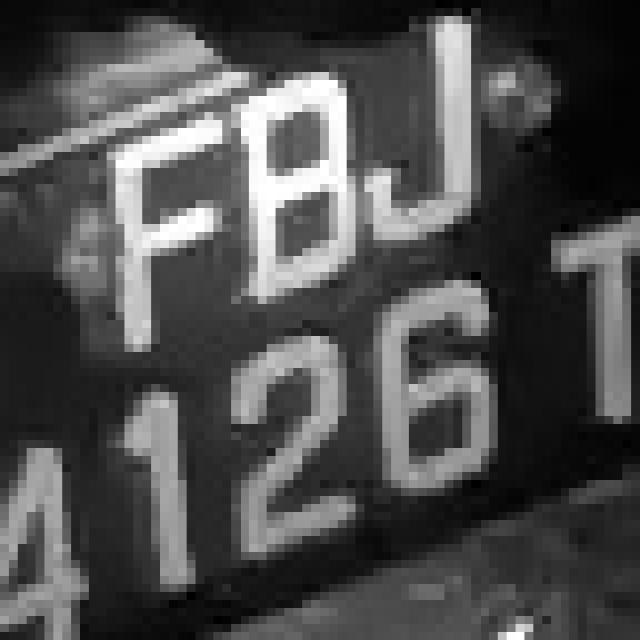1: (106, 368, 205, 600)
2: (196, 328, 356, 560)
4: (0, 408, 107, 640)
6: (364, 272, 506, 528)
B: (231, 72, 373, 304)
F: (98, 112, 222, 352)
J: (364, 32, 506, 248)
T: (534, 216, 622, 456)
